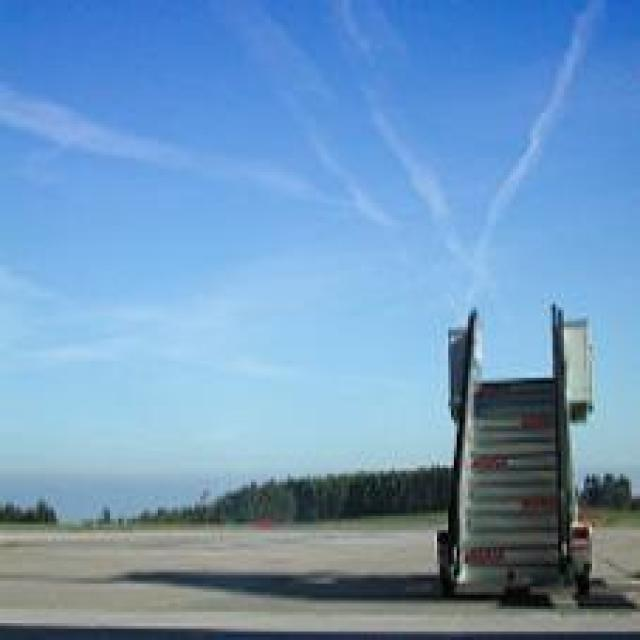upstair: (455, 373, 582, 559)
